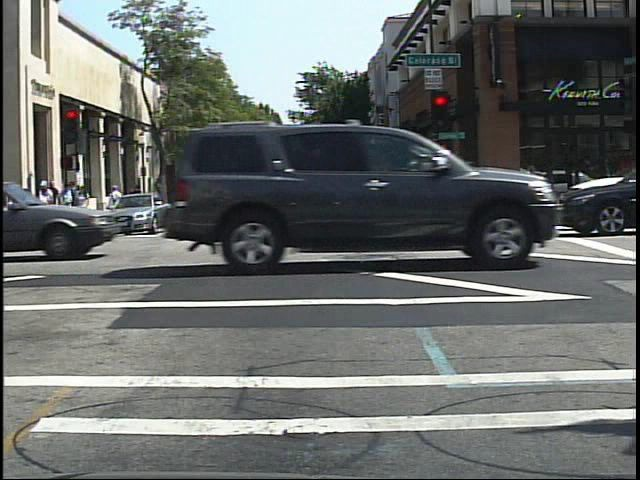person: (107, 180, 128, 228)
